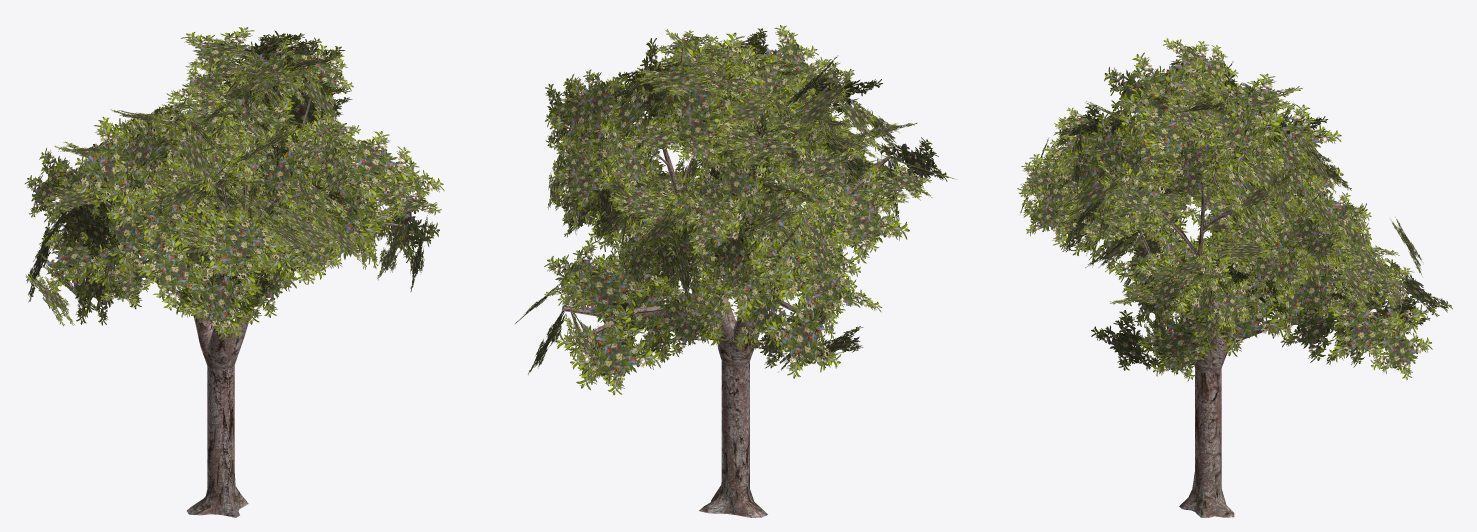
Rendered from Strawberry_Tree_Model_0.obj.
3 views of the same model, side by side, from view 1: azimuth 30°, elevation 25°; view 2: azimuth 150°, elevation 25°; view 3: azimuth 270°, elevation 25° (orthographic). The views are drawn at different scales.
Visible parts, largest first — view 1: Foliage__leafcard, Bark; view 2: Foliage__leafcard, Bark; view 3: Foliage__leafcard, Bark.
Part boxes in pixels (bbox=[...]): Foliage__leafcard: bbox=[25, 27, 444, 339]; Bark: bbox=[62, 41, 401, 517]; Foliage__leafcard: bbox=[515, 25, 956, 395]; Bark: bbox=[561, 47, 890, 517]; Foliage__leafcard: bbox=[1017, 38, 1452, 381]; Bark: bbox=[1108, 88, 1403, 517].
Size of the model in its own units: 6.66 by 7.5 by 6.82.
Materials: 2 (2 with a texture image).
